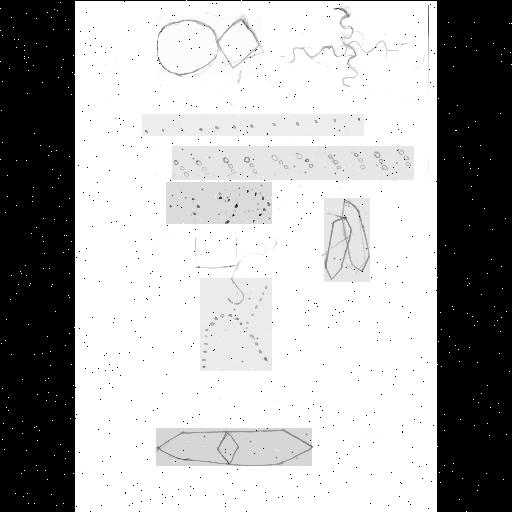shape-1: (156, 16, 262, 76)
shape-2: (142, 114, 364, 136)
shape-3: (172, 146, 414, 180)
shape-4: (166, 182, 272, 224)
shape-5: (193, 232, 272, 304)
shape-6: (200, 278, 272, 371)
shape-7: (290, 4, 396, 86)
shape-8: (324, 198, 370, 282)
shape-9: (156, 428, 312, 466)
